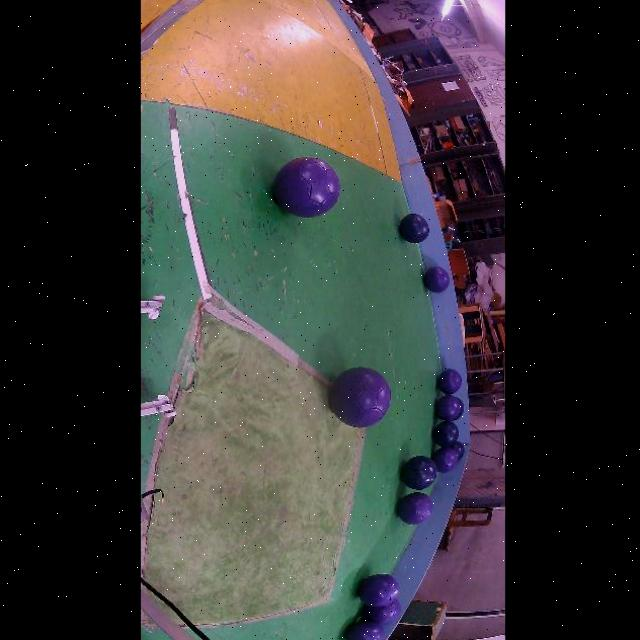B: (399, 456, 435, 490), (398, 214, 427, 244), (431, 421, 457, 447)
P: (273, 157, 338, 218), (328, 368, 389, 428), (356, 574, 398, 607), (395, 493, 431, 526), (361, 599, 399, 623), (344, 621, 383, 640), (433, 395, 459, 421), (430, 447, 456, 473), (422, 266, 447, 293), (436, 369, 460, 394)
